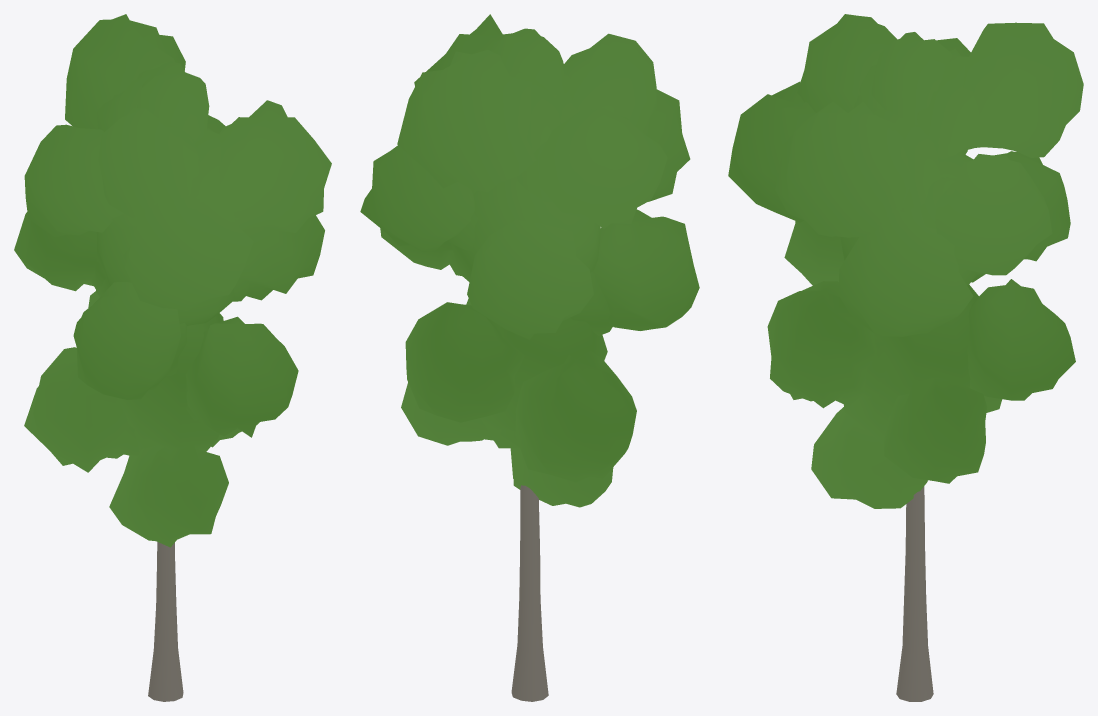
Rendered from Blender_TulipPoplar_1.glb.
3 renders of one model, left to right at view 1: azimuth 30°, elevation 25°; view 2: azimuth 150°, elevation 25°; view 3: azimuth 270°, elevation 25°, orthographic. The views are drawn at different scales.
Parts seen in each view (by area): view 1: Blender_TulipPoplar_1; view 2: Blender_TulipPoplar_1; view 3: Blender_TulipPoplar_1.
Part boxes in pixels (x1,y1,x2,y2): Blender_TulipPoplar_1: [14, 14, 331, 701]; Blender_TulipPoplar_1: [360, 14, 699, 701]; Blender_TulipPoplar_1: [728, 14, 1083, 701].
Size of the model in its own units: 17.15 by 39.04 by 18.62.
